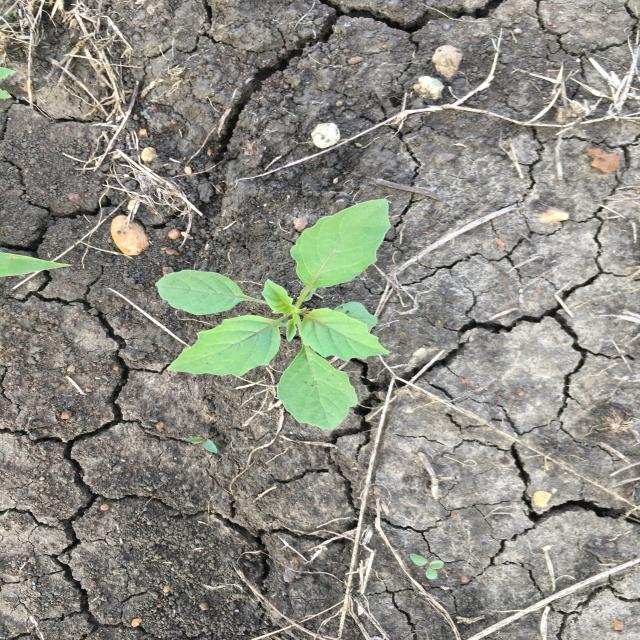CutleafGroundcherry: (151, 196, 396, 434)
